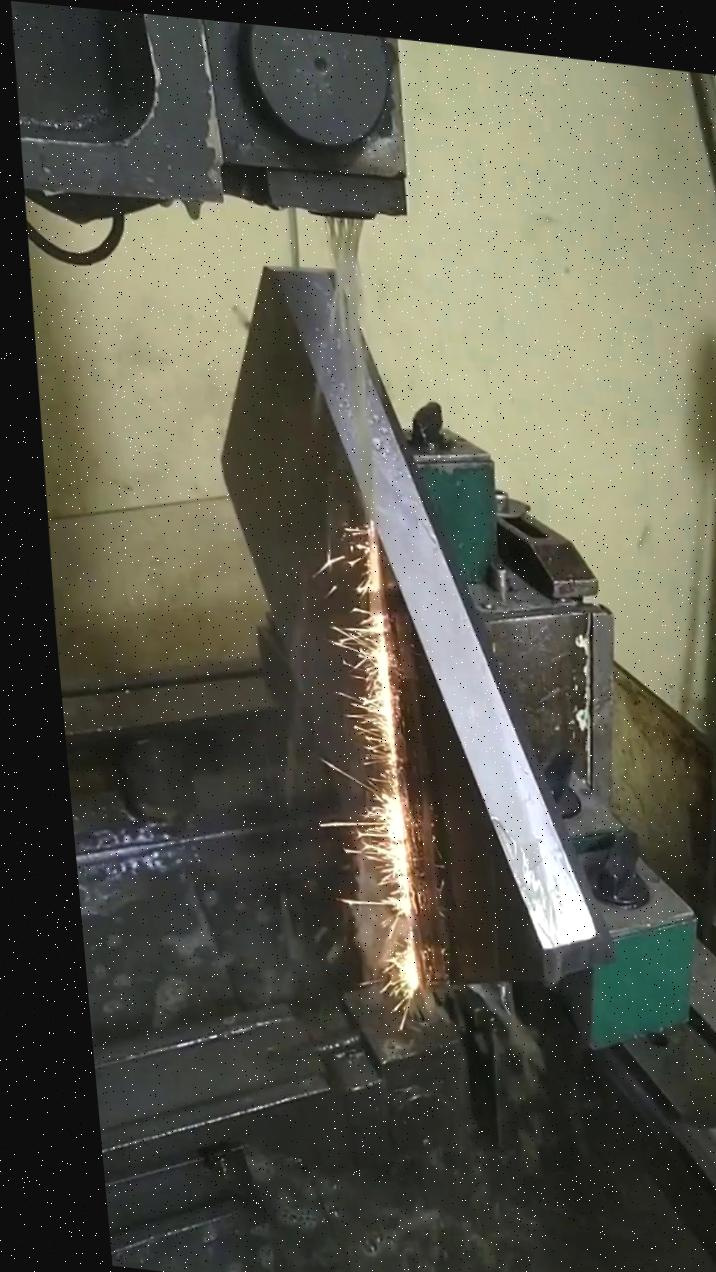fire: (298, 485, 477, 1047)
